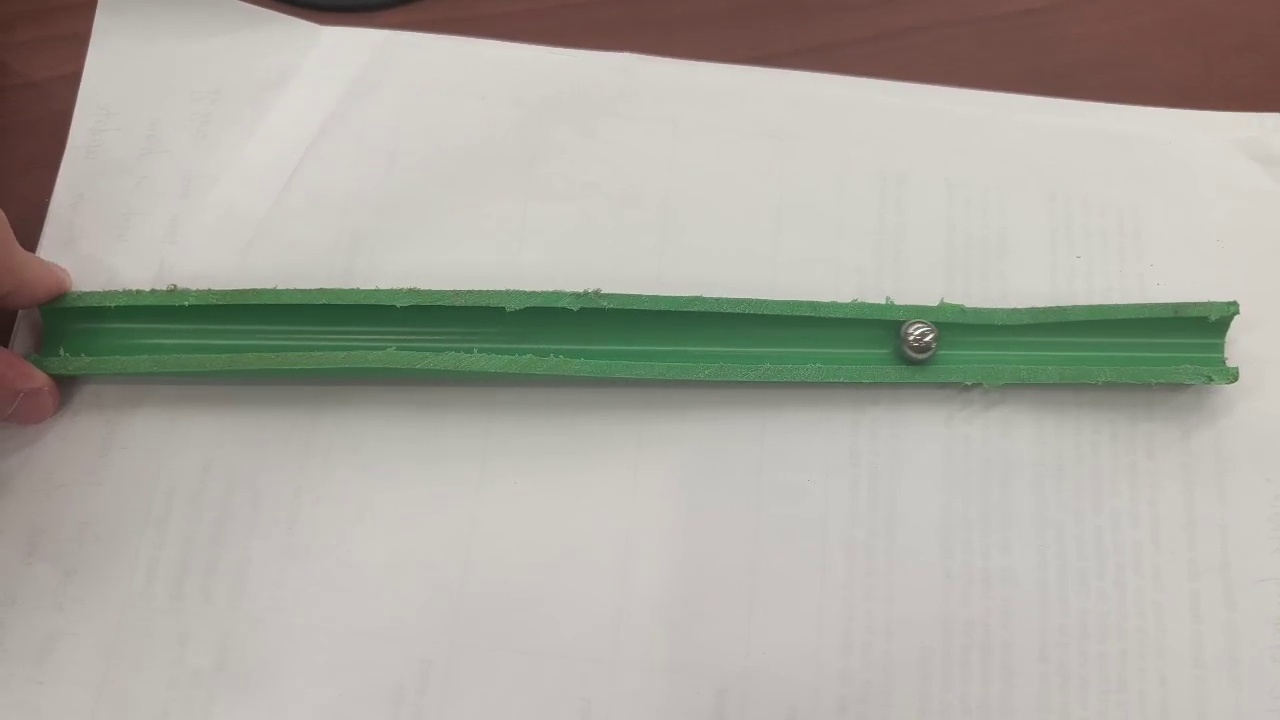ball: (902, 321, 938, 360)
